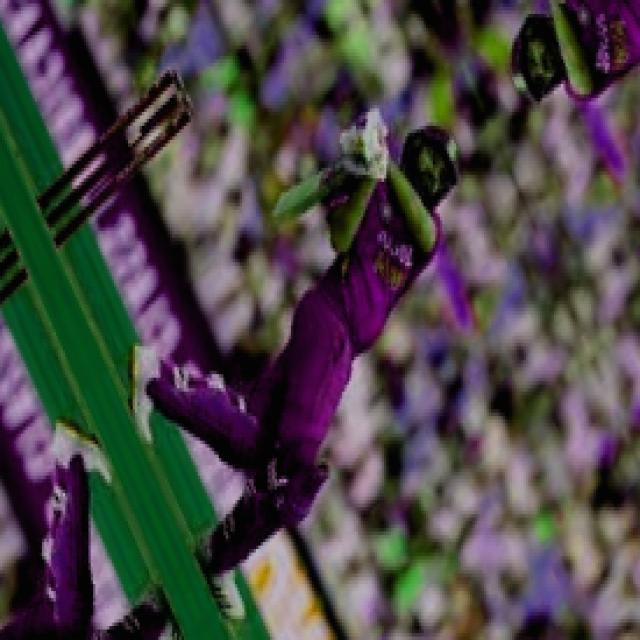toe: (273, 188, 294, 228)
